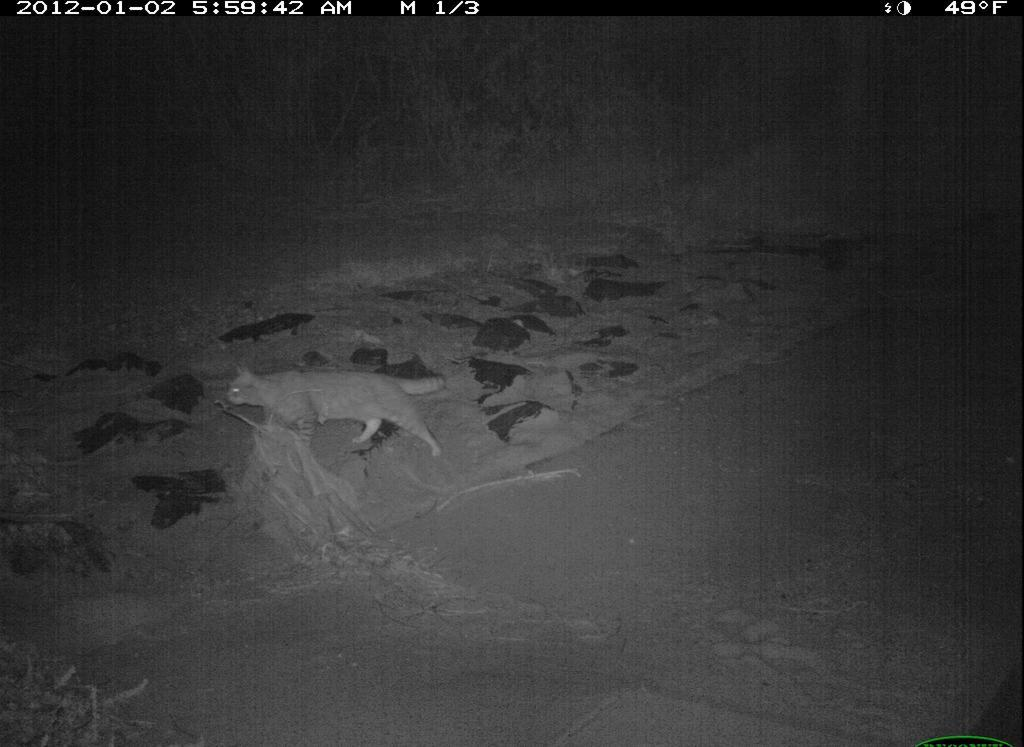cat: (222, 355, 457, 464)
